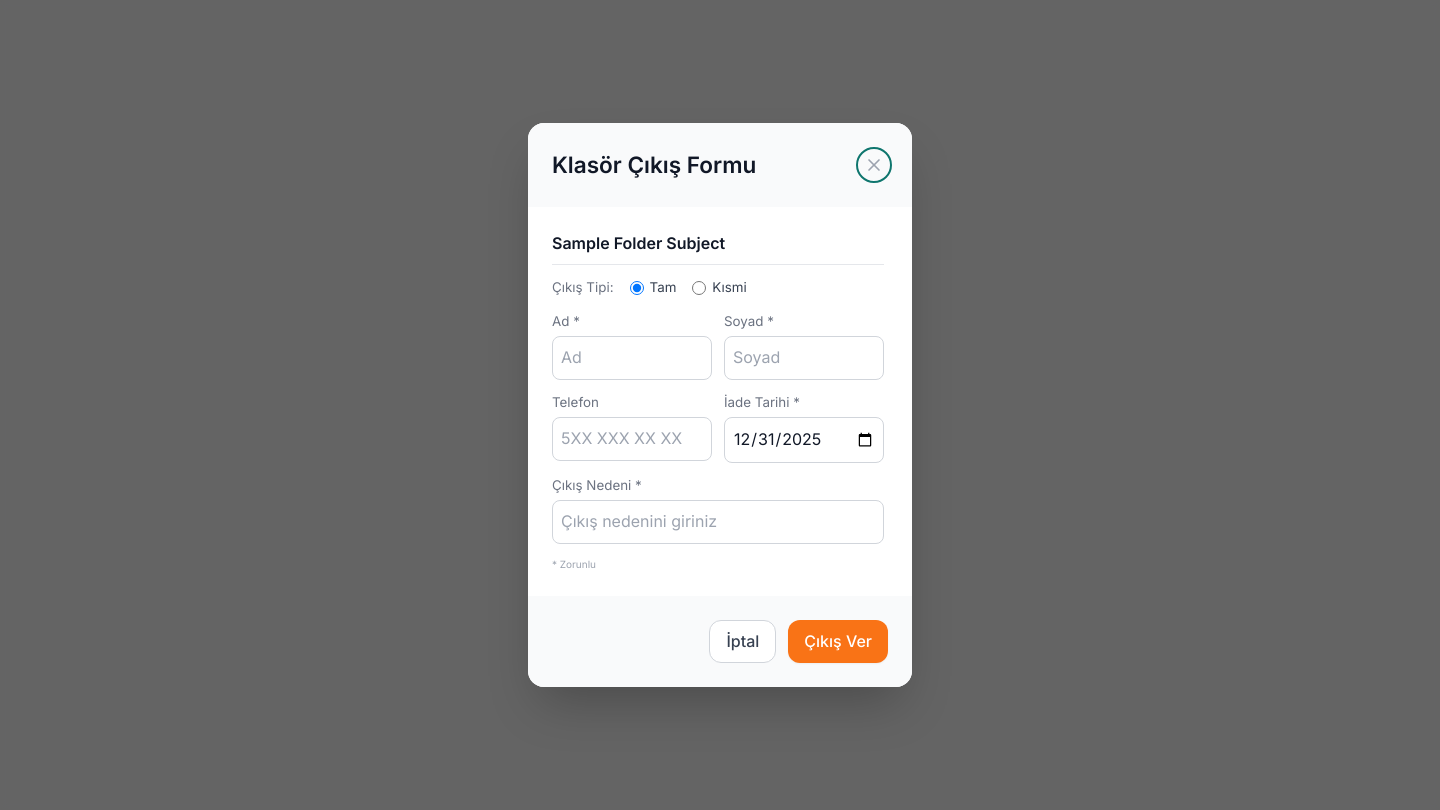
CheckoutModal Bileşeni › çıkış tipine göre belge açıklamasını gösterir ve gizler
Expected: the field labelled "çıkarılan belgeler" is not shown
Click 'Kısmi'
Click the radio button labelled "Kısmi" at (699, 288), box [692,281,706,295]
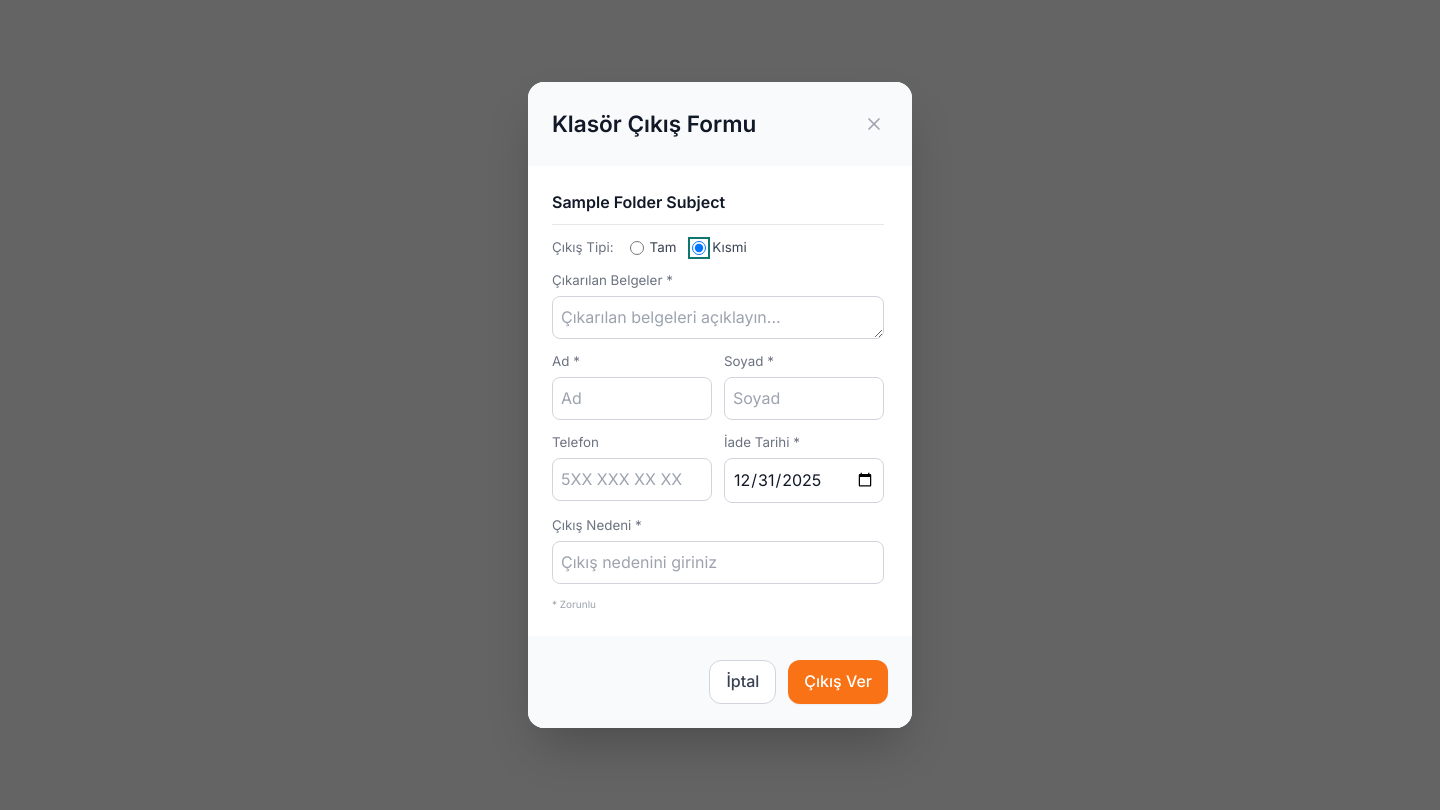
Now the text box labelled "Çıkarılan Belgeler *" is shown, box [552,296,884,339]
Click 'Tam'
Click the radio button labelled "Tam" at (636, 248), box [630,241,644,255]
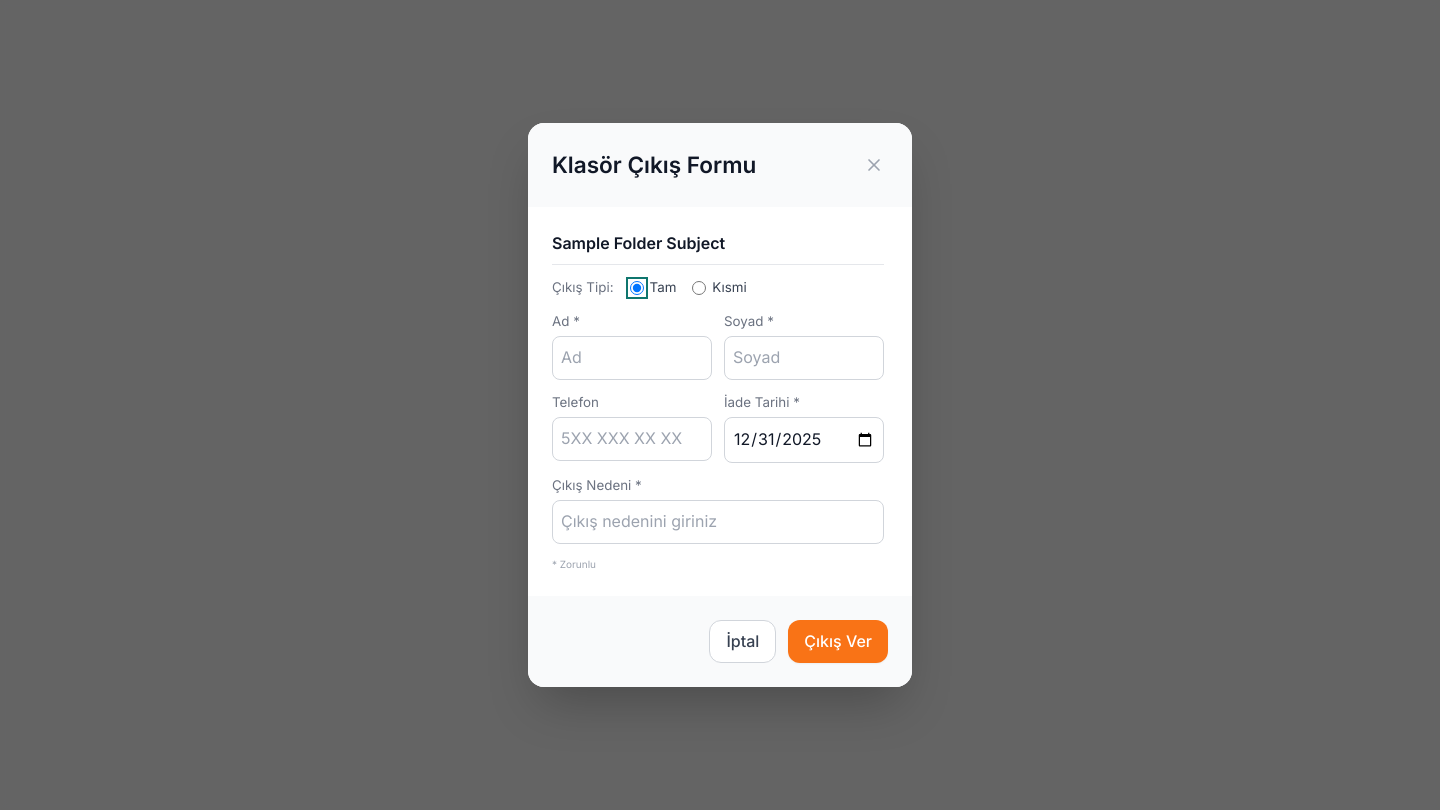
Now the label labelled "Çıkarılan Belgeler" is gone
